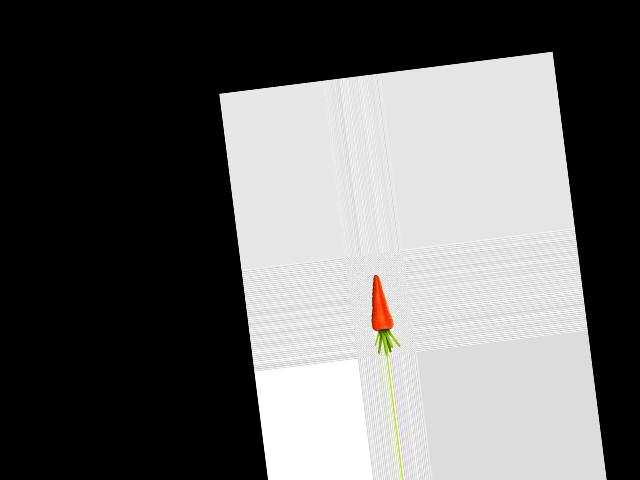carrot: (364, 271, 397, 336)
